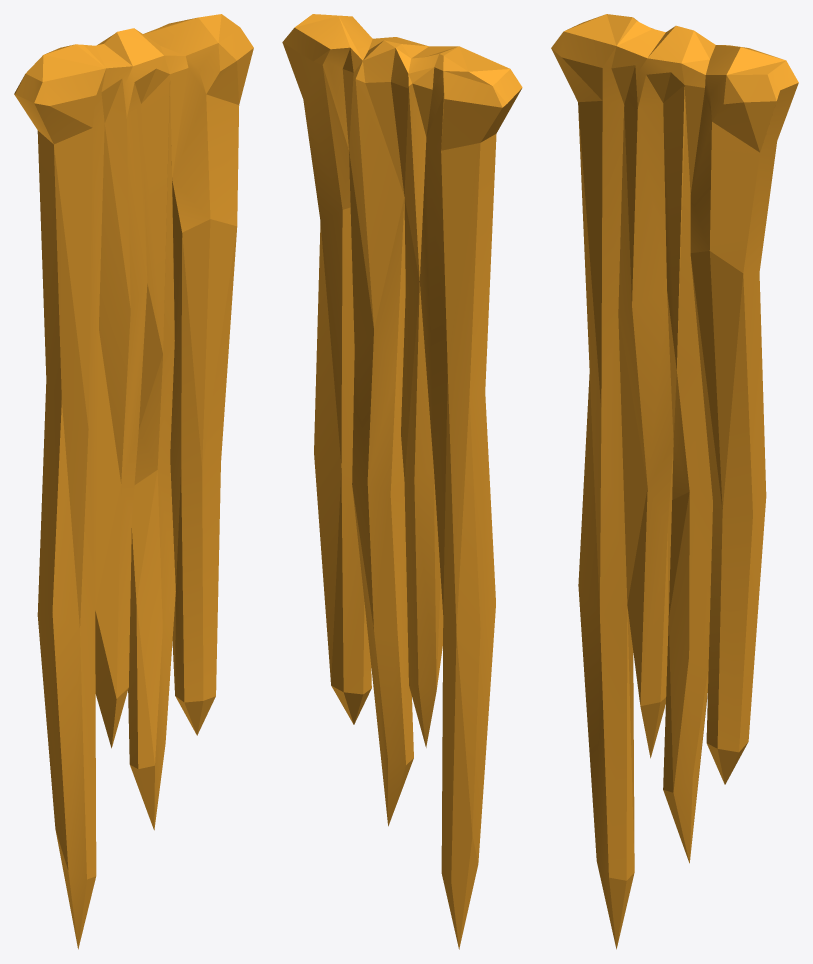
Rendered from SM_Icicle_Group_B.fbx.
The picture shows the model from 3 angles, left to right: view 1: azimuth 30°, elevation 25°; view 2: azimuth 150°, elevation 25°; view 3: azimuth 330°, elevation 25°; orthographic projection. The views are drawn at different scales.
Parts seen in each view (by area): view 1: icicle-group-b; view 2: icicle-group-b; view 3: icicle-group-b.
Boxes of the visible parts, x1,y1,x2,y2 form: icicle-group-b: (14, 14, 253, 949); icicle-group-b: (282, 14, 522, 949); icicle-group-b: (551, 14, 798, 949).
Bounding box in the file's own units: 1.68 × 6.54 × 0.5687.
